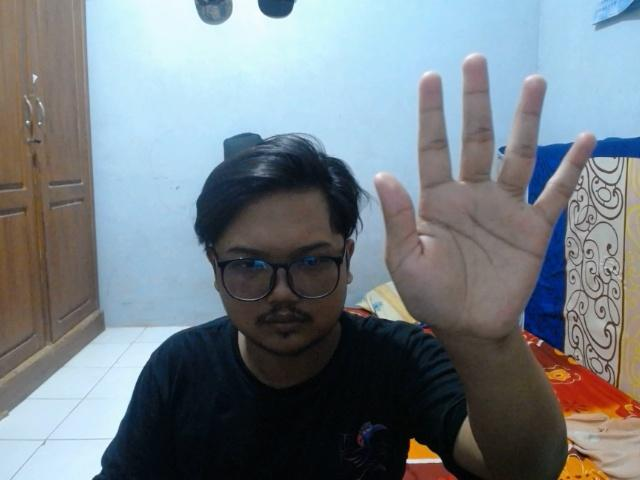Release: (368, 46, 602, 349)
